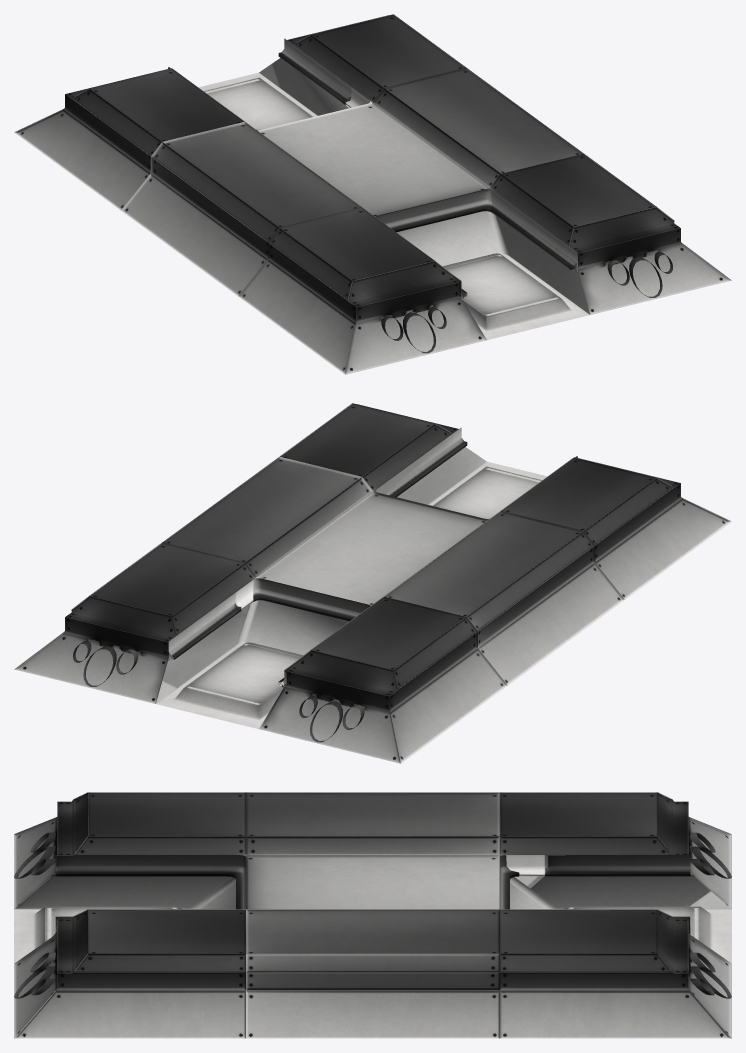
Rendered from hallway_roof.obj.
The picture shows the model from 3 angles, top to bottom: view 1: azimuth 30°, elevation 25°; view 2: azimuth 150°, elevation 25°; view 3: azimuth 270°, elevation 25°; orthographic projection. The views are drawn at different scales.
Parts seen in each view (by area): view 1: HallwayStraight001_Untitled.002; view 2: HallwayStraight001_Untitled.002; view 3: HallwayStraight001_Untitled.002.
Part boxes in pixels (box(x1,y1,x2,y2)): HallwayStraight001_Untitled.002: box(14, 14, 731, 374); HallwayStraight001_Untitled.002: box(14, 403, 731, 763); HallwayStraight001_Untitled.002: box(14, 792, 731, 1038).
Size of the model in its own units: 5.39 by 0.7937 by 8.
